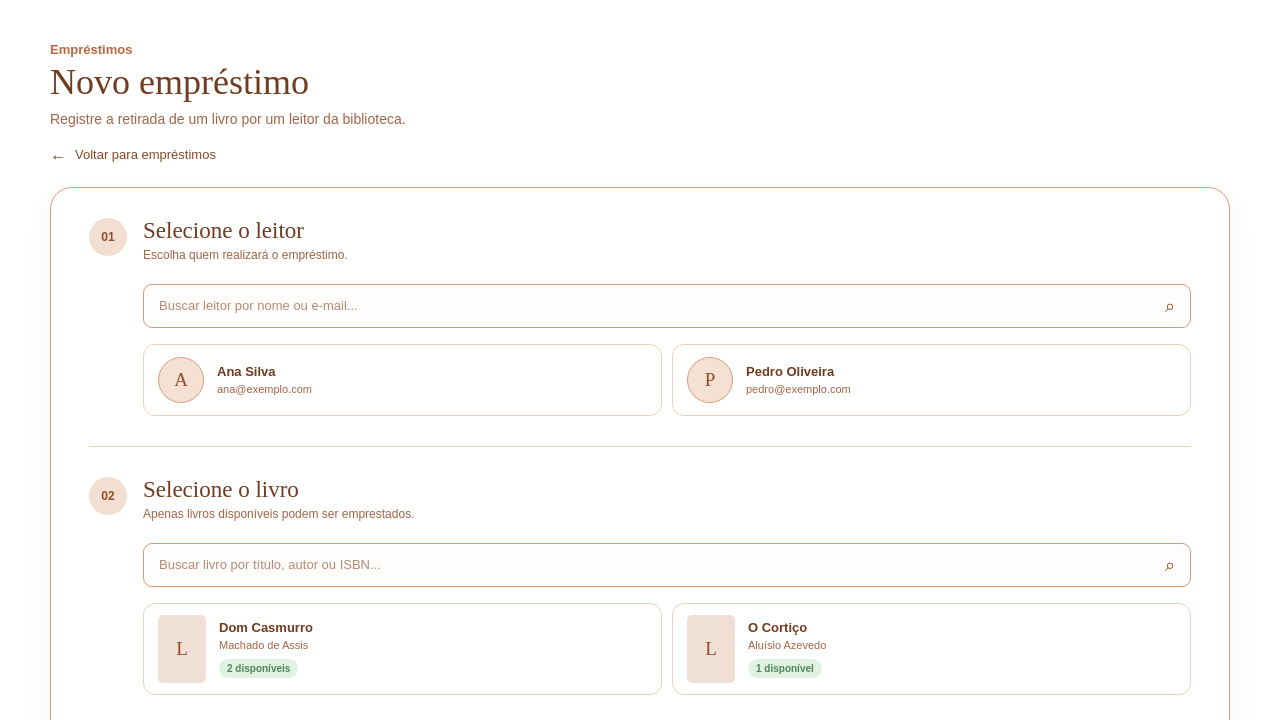
Test: Testes de novo empréstimo › não deve permitir selecionar livros indisponíveis
expect the button "Livro Indisponível" is not shown: met
Type "Livro Indisponível" into the search field with placeholder "Buscar livro por título, autor ou ISBN...".
click(667, 565); type("Livro Indisponível")  # box [143,543,1191,587]
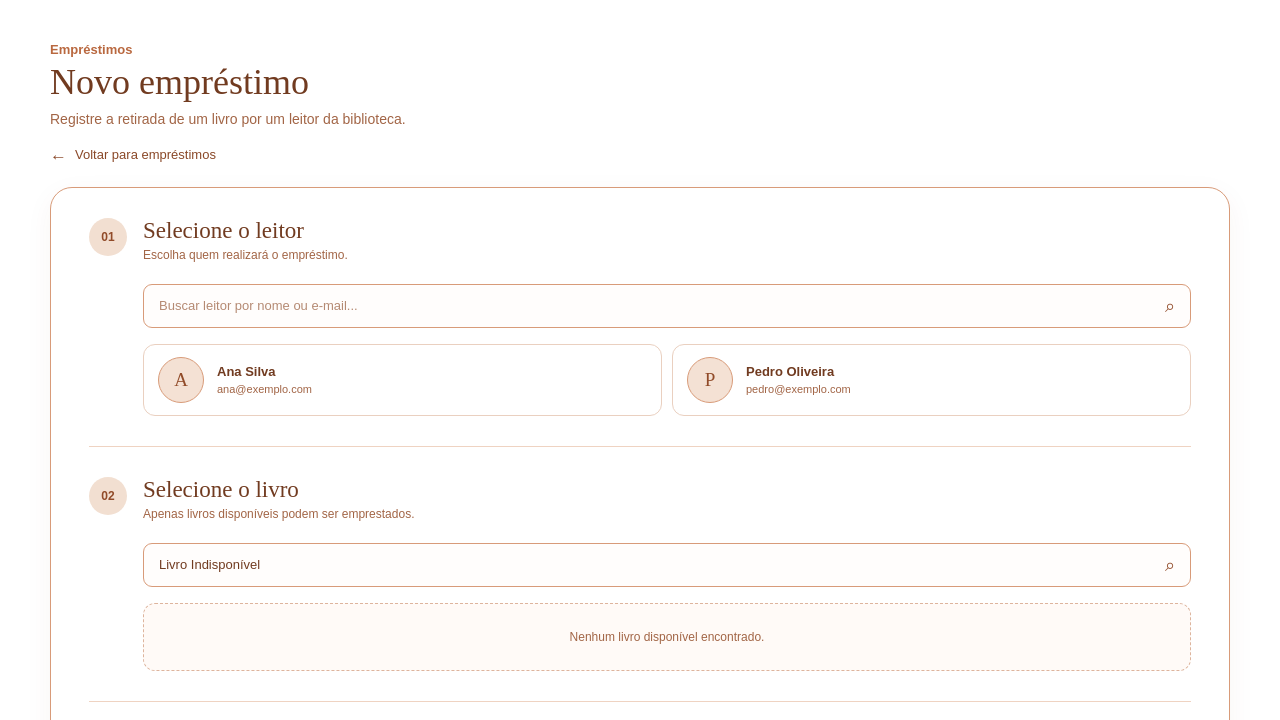
expect the text "Nenhum livro disponível encontrado." is shown: met, box [143,603,1191,671]
